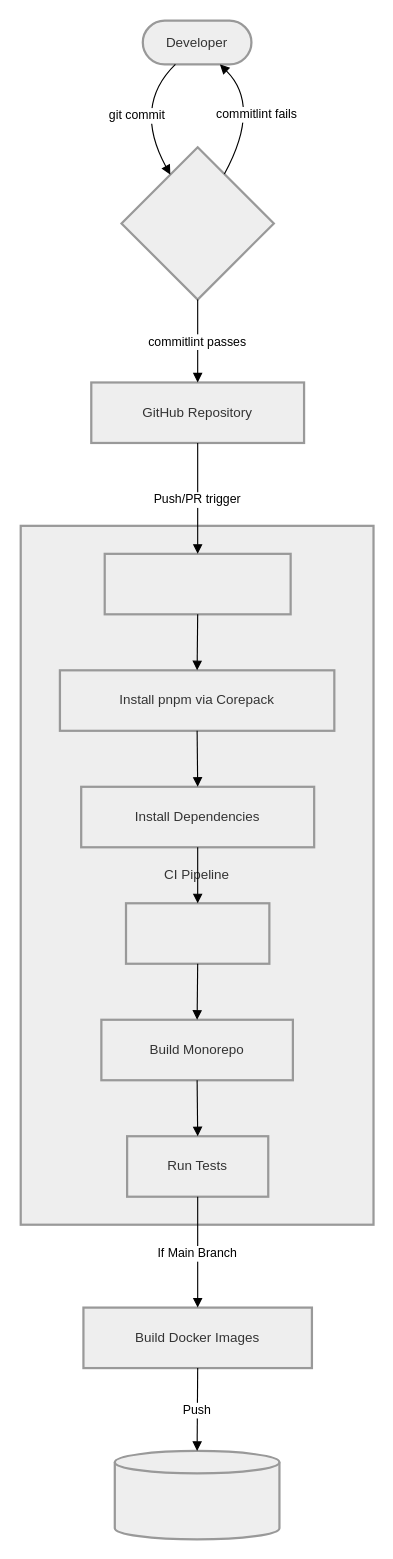
The diagram is 393 pixels wide and 1559 high, and some of its shapes have lost their labels. The shapes that lost their labels are listed below. From the top down, each one's centre as x and y in pixels, then its label:
At point 197,223: "Husky Hook".
At point 197,583: "GitHub Actions".
At point 197,933: "Lint Code".
At point 196,1494: "DockerHub".
